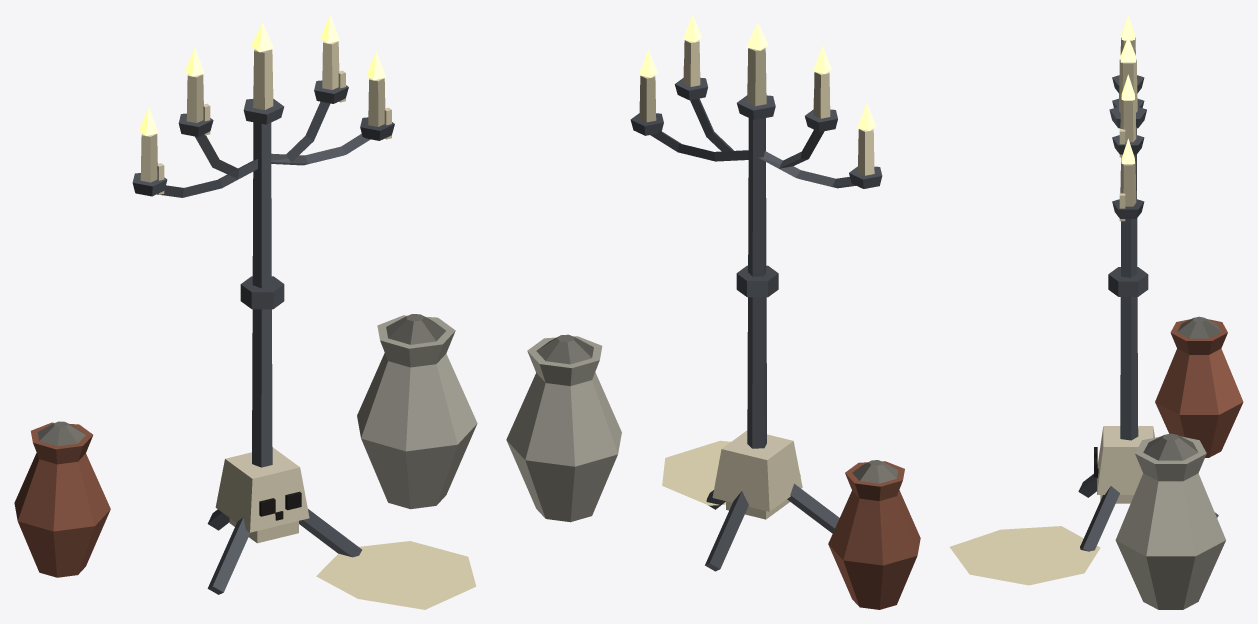
Rendered from crypt_candelabra.glb.
3 views of the same model, side by side, from view 1: azimuth 30°, elevation 25°; view 2: azimuth 150°, elevation 25°; view 3: azimuth 270°, elevation 25° (orthographic). The views are drawn at different scales.
Visible parts, largest first — view 1: crypt_candelabra; view 2: crypt_candelabra; view 3: crypt_candelabra.
Boxes of the visible parts, x1=… form: crypt_candelabra: x1=14, y1=14, x2=477, y2=609; crypt_candelabra: x1=506, y1=14, x2=920, y2=609; crypt_candelabra: x1=950, y1=14, x2=1243, y2=609.
Bounding box in the file's own units: 1.59 × 1.91 × 1.04.
